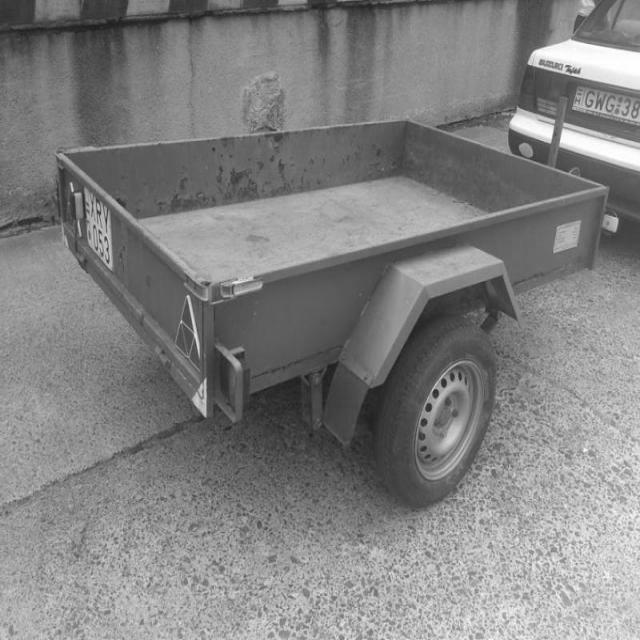Box Truck: (56, 120, 610, 512)
